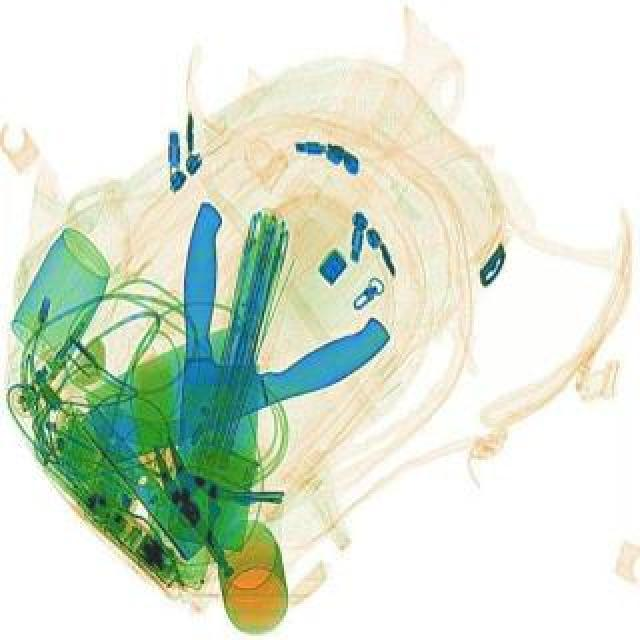knife: (68, 270, 400, 470), (166, 198, 270, 550)
